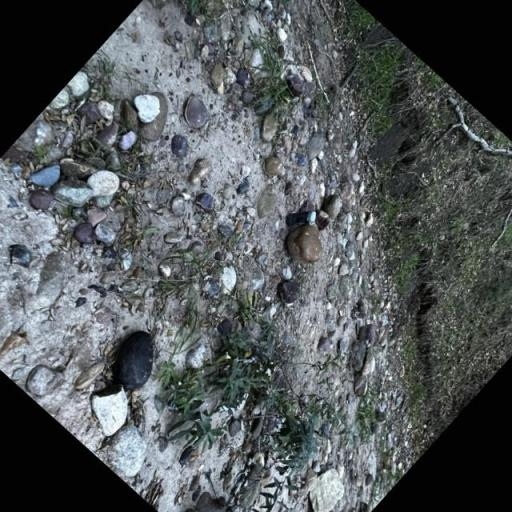bottle: (282, 199, 320, 238)
